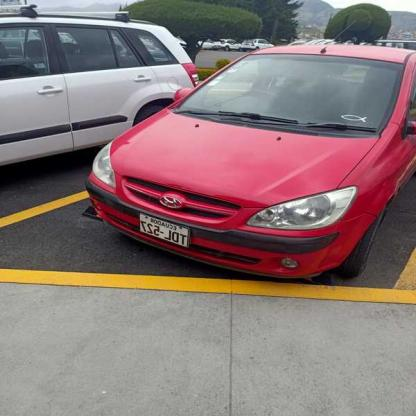Placa: (136, 208, 194, 250)
